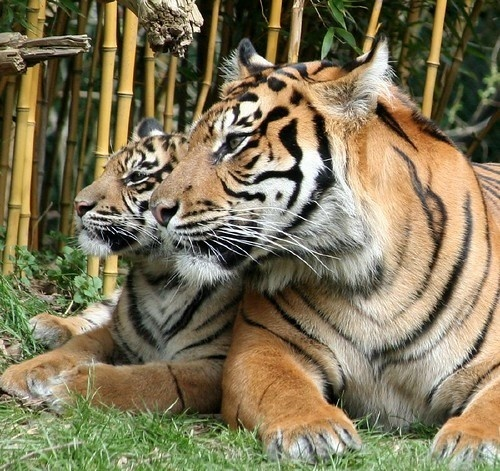tigre: (148, 42, 500, 466), (1, 115, 224, 410)
